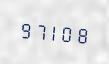eight: (74, 21, 87, 46)
nine: (18, 16, 31, 41)
one: (46, 19, 59, 44)
seven: (32, 18, 45, 43)
zero: (60, 20, 73, 45)
